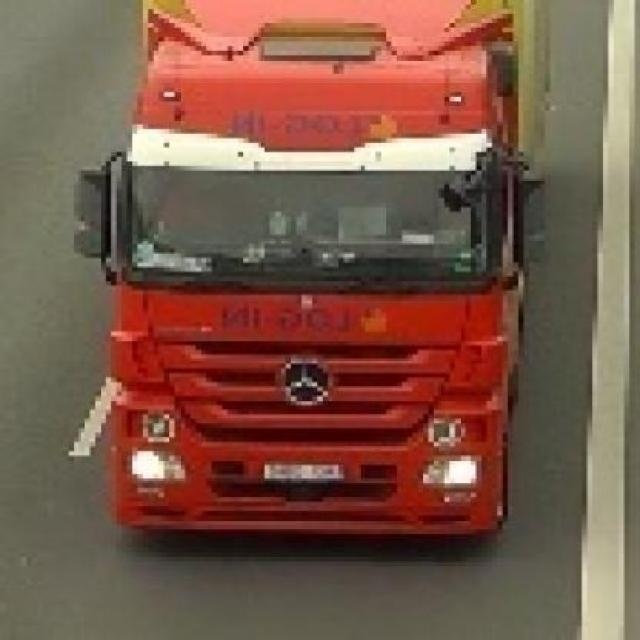truck: (70, 1, 536, 535)
